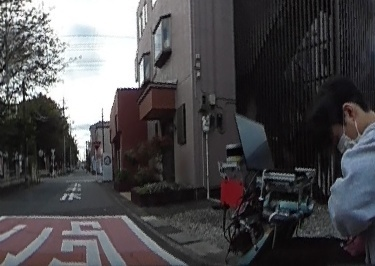person: (277, 78, 375, 266)
